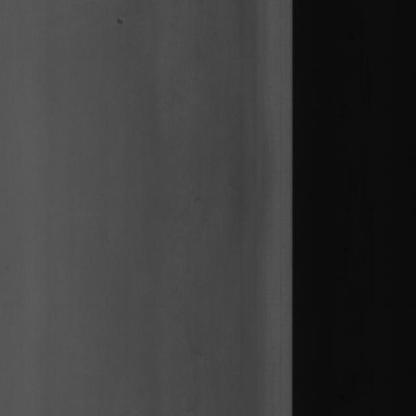inclusion: (113, 11, 128, 30)
